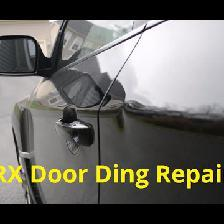dent: (96, 96, 137, 148)
